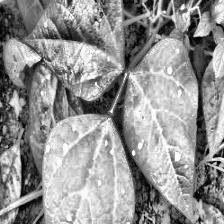Bean Rust: (124, 39, 197, 218), (39, 111, 132, 224), (31, 0, 123, 93)
